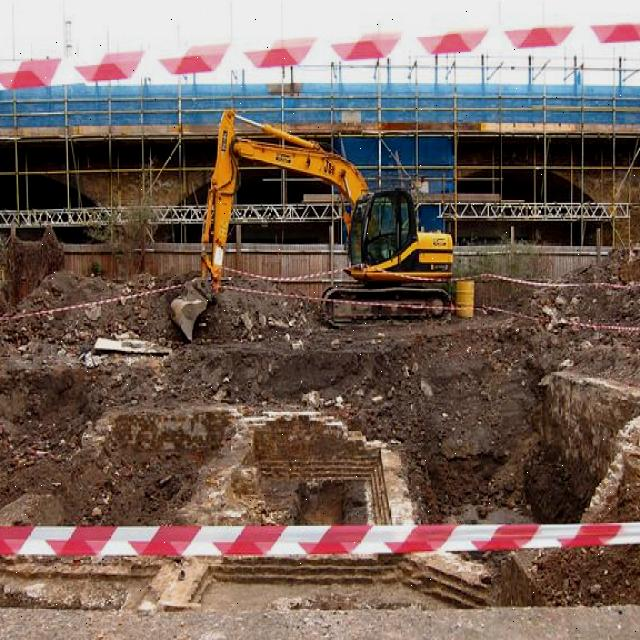Excavator: (170, 104, 454, 339)
